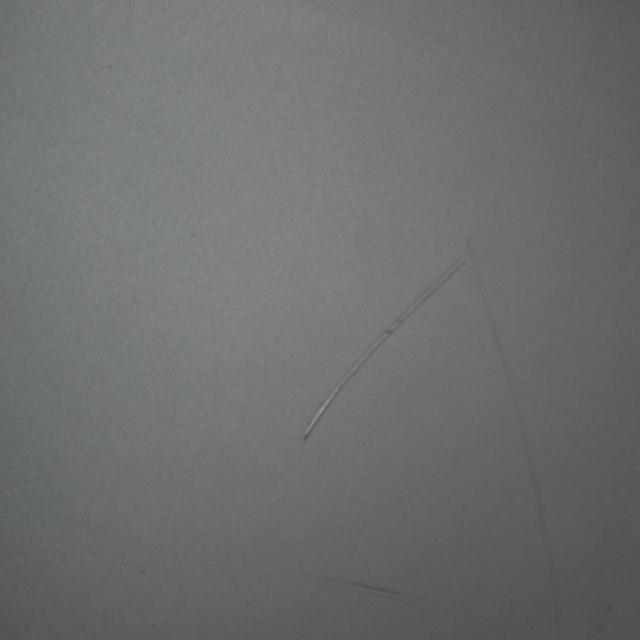scratch: (463, 224, 563, 619), (298, 253, 471, 449), (304, 558, 420, 610)
